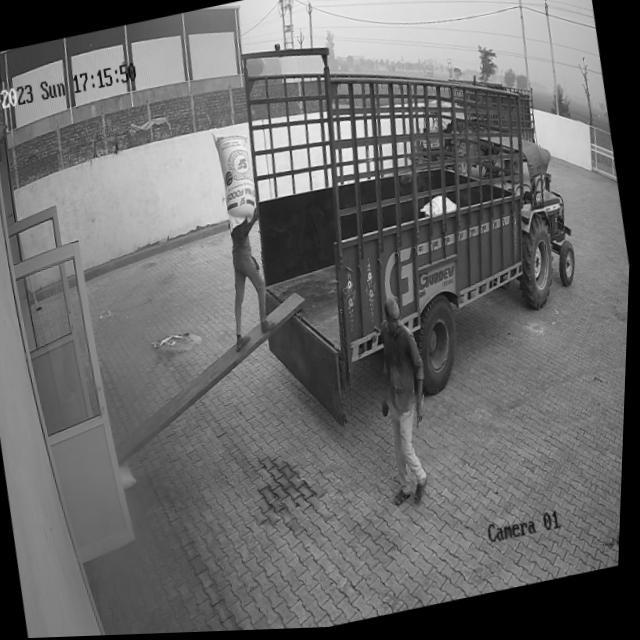sack: (210, 128, 264, 235)
